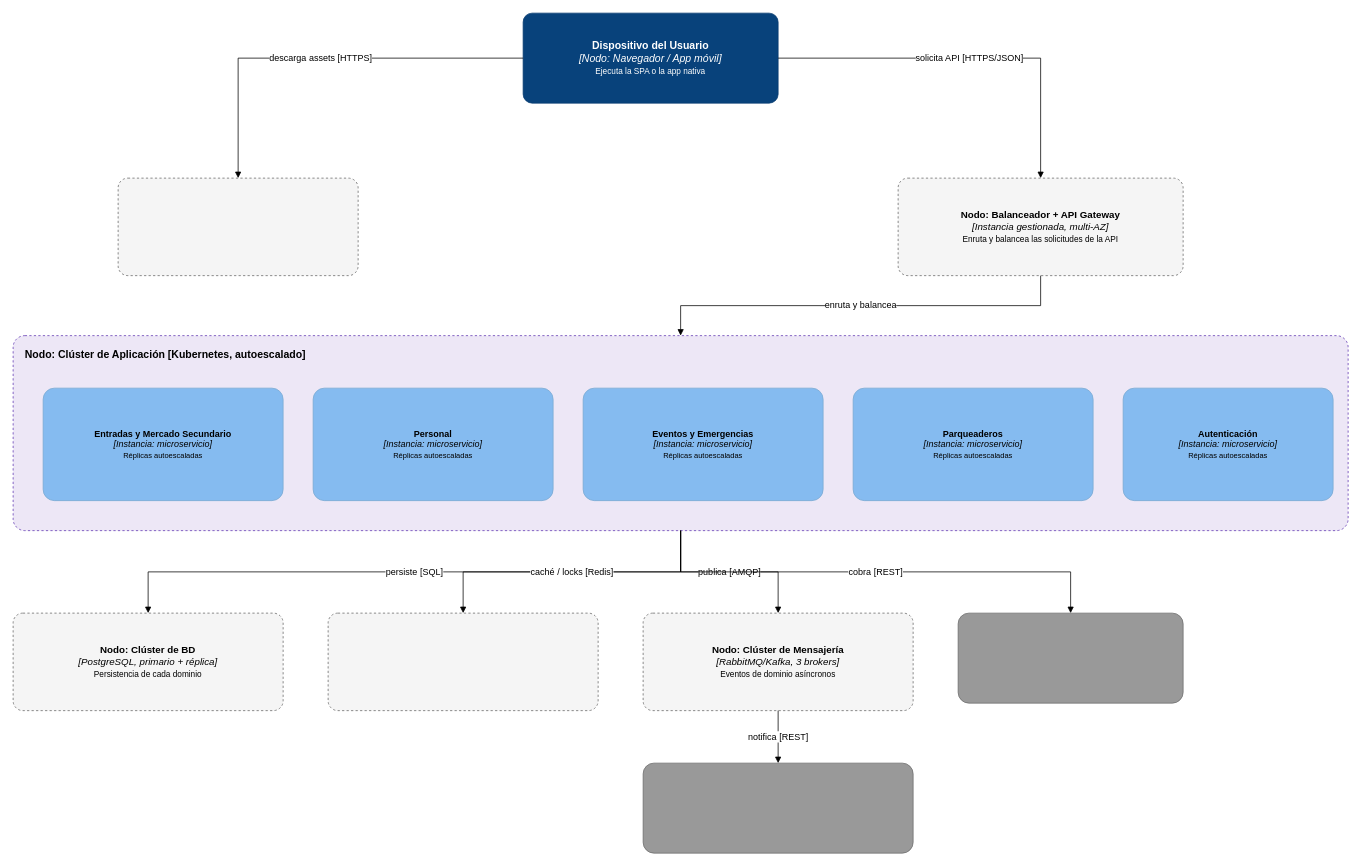
Image size: 1361x866. Some labels were removed from this diagram. Here are the shapes that lost their labels. From the top down, the centre of each, then its label:
(237,226): Nodo: CDN / Edge [ej. CloudFront] Sirve los assets estáticos de la App Web
(462,661): Nodo: Clúster Redis [modo Sentinel] Caché y bloqueos de concurrencia
(1070,657): Pasarela de Pagos [Sistema externo] Procesa cobros y reembolsos
(777,807): Proveedor de Notificaciones [Sistema externo] Push, correo y SMS
